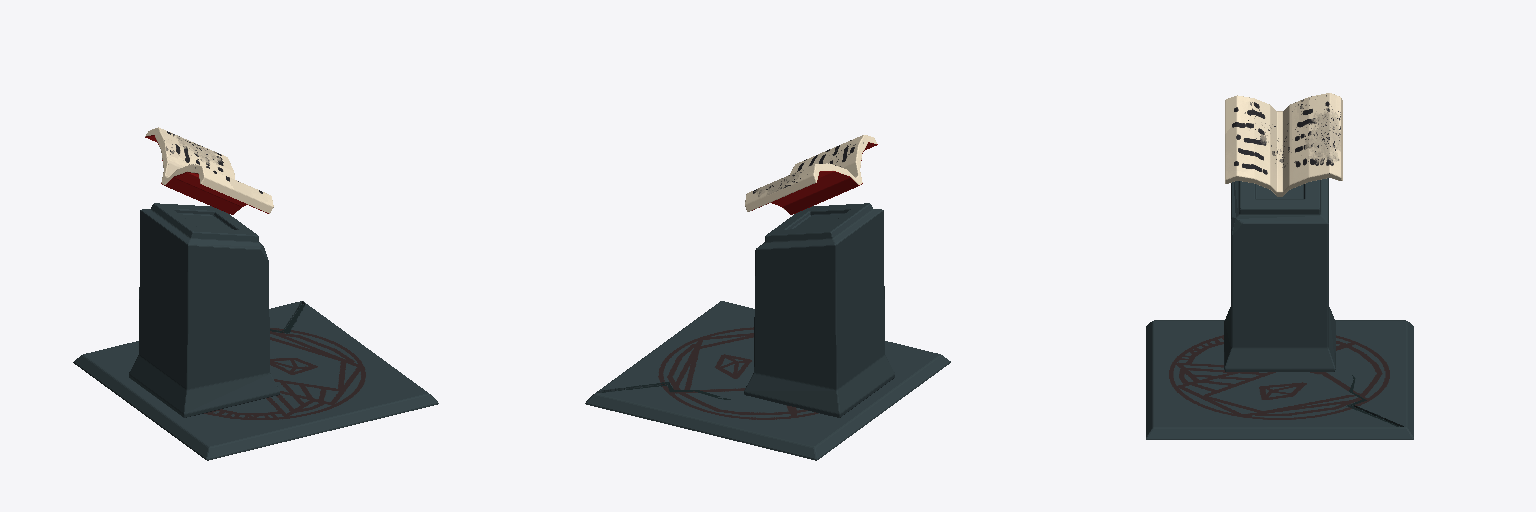
3 renders of one model, left to right at view 1: azimuth 30°, elevation 25°; view 2: azimuth 150°, elevation 25°; view 3: azimuth 270°, elevation 25°, orthographic.
Visible parts, largest first — view 1: trap pCube2, trap pCube1, pCube3 trap; view 2: trap pCube2, trap pCube1, pCube3 trap; view 3: trap pCube1, trap pCube2, pCube3 trap.
Boxes of the visible parts, <box> form: trap pCube2: <box>129,203,279,417</box>; trap pCube1: <box>73,301,438,460</box>; pCube3 trap: <box>145,127,273,214</box>; trap pCube2: <box>744,203,894,417</box>; trap pCube1: <box>585,301,950,460</box>; pCube3 trap: <box>745,135,877,214</box>; trap pCube1: <box>1146,320,1413,439</box>; trap pCube2: <box>1224,178,1335,371</box>; pCube3 trap: <box>1225,93,1342,196</box>.
Bounding box in the file's own units: 2.8 × 2.95 × 2.8.
Materials: 3 (3 with a texture image).